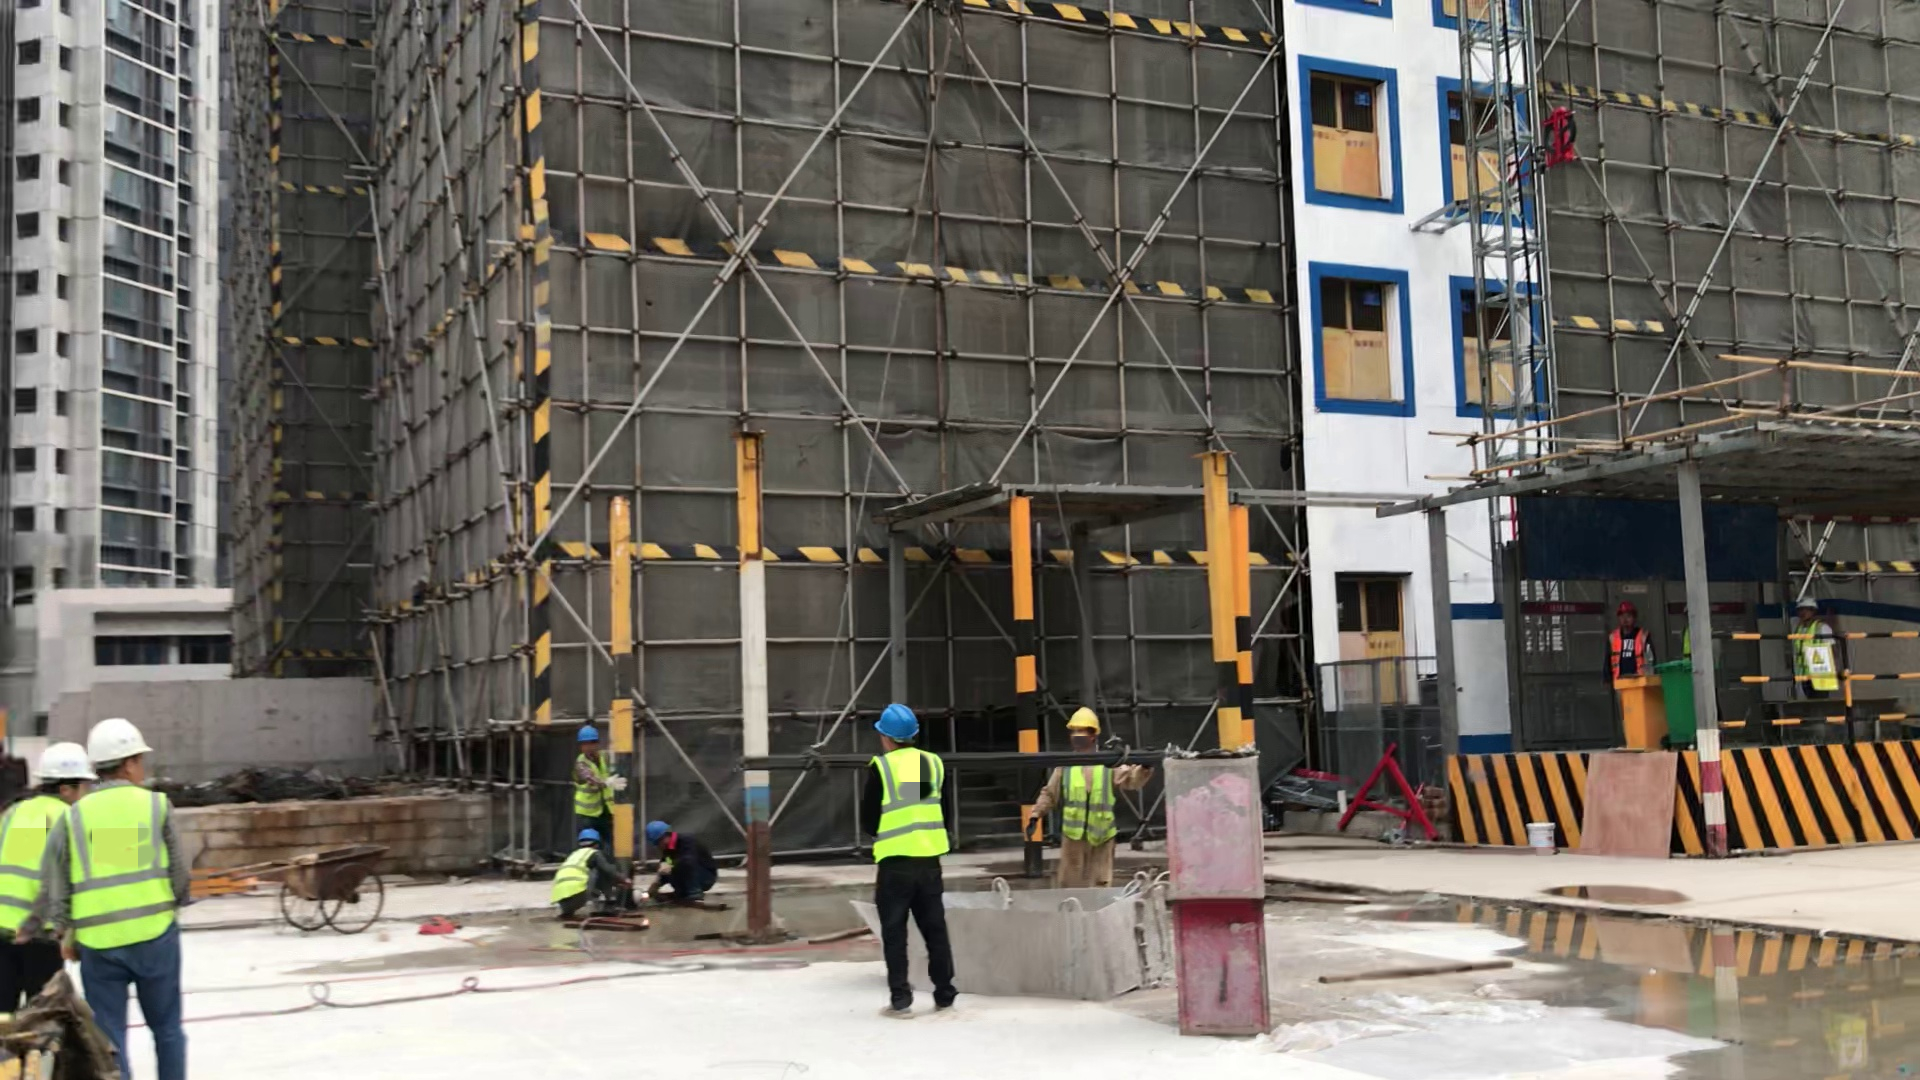fence: (1702, 624, 1920, 741)
handcart: (188, 828, 421, 949)
helmet: (67, 720, 173, 768), (29, 737, 97, 789), (870, 695, 927, 742), (1059, 703, 1106, 738), (566, 820, 609, 845), (640, 816, 674, 843), (578, 719, 602, 739), (1611, 597, 1640, 613), (1791, 597, 1821, 608)
hopper: (841, 868, 1176, 1020)
person: (52, 693, 226, 1080), (838, 674, 988, 1030), (1016, 677, 1138, 895), (1, 730, 86, 977), (520, 812, 632, 942), (612, 793, 721, 919), (1777, 581, 1871, 729), (539, 700, 625, 838), (1594, 583, 1661, 682)
rebar: (937, 745, 1172, 779), (733, 748, 873, 777)
slogan: (1785, 631, 1854, 707)
vest: (57, 781, 187, 957), (862, 737, 955, 880), (3, 797, 72, 937), (1055, 750, 1126, 861), (545, 847, 595, 919), (570, 746, 617, 822), (1791, 620, 1833, 692), (1607, 624, 1655, 686), (1677, 625, 1695, 666)
